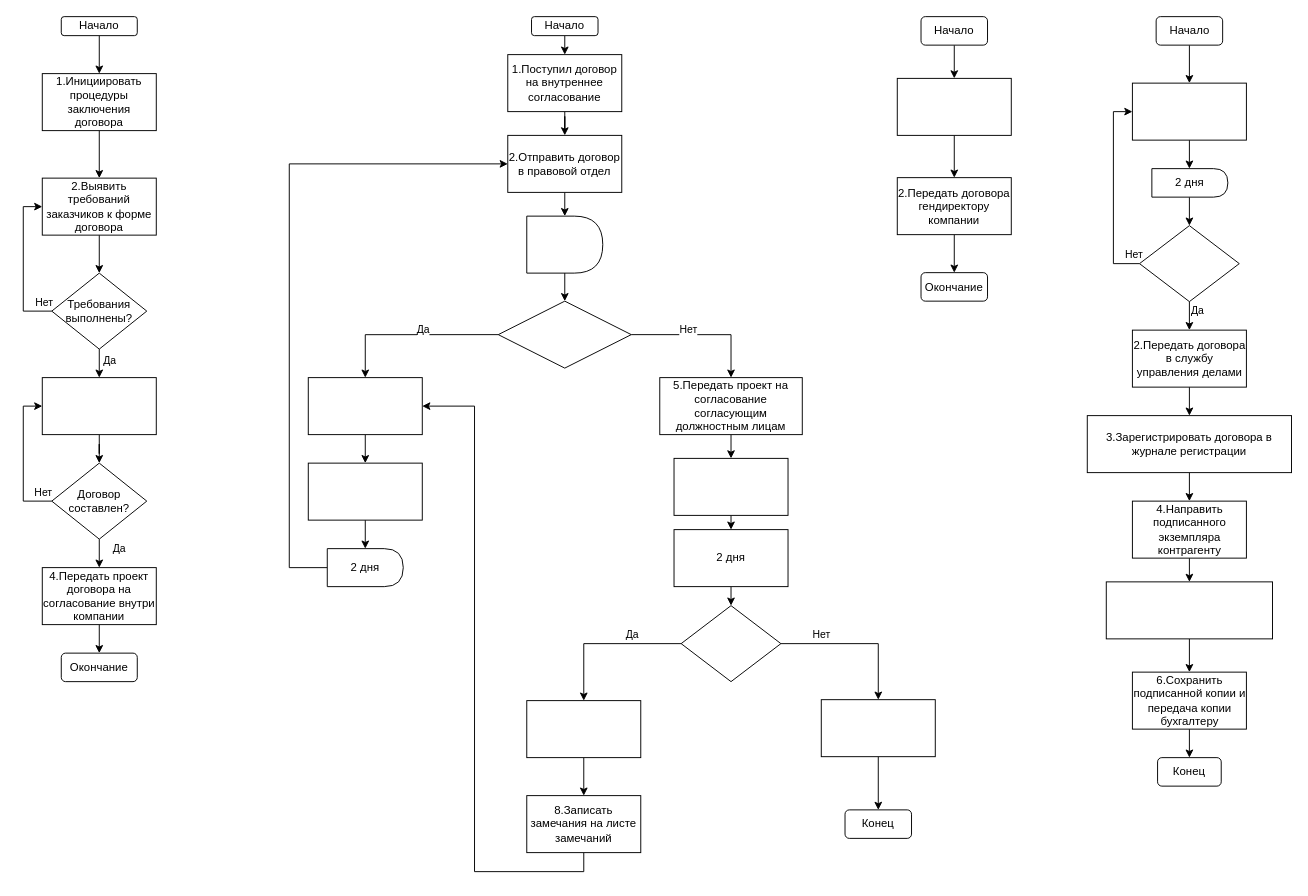
The diagram is 1308 pixels wide and 896 high, and some of its shapes have lost their labels. The shapes that lost their labels are listed below. From the top down, each one's centre as x and y in pixels, then its label:
[953,106]: 1.Отправить проект договора контрагенту
[1188,111]: 1.Подписать договора
[564,244]: 5 дней
[1189,263]: Договор подписан?
[564,334]: Ошибки или опечатки выявлены?
[98,406]: 3.Составить проект договора
[364,406]: 3.Вернуть проект договора менеджеру
[364,491]: 4.Внести необходимые изменения
[730,486]: 6.Провести экспертизы договора
[1189,610]: 5.Проконтролировать за направлением контрагенту подписанного договора
[730,643]: Есть замечания к договору?
[583,729]: 7.Проставить отметки "С замечаниями на листе согласования"
[877,728]: 9.Проставить на листе согласования визы
